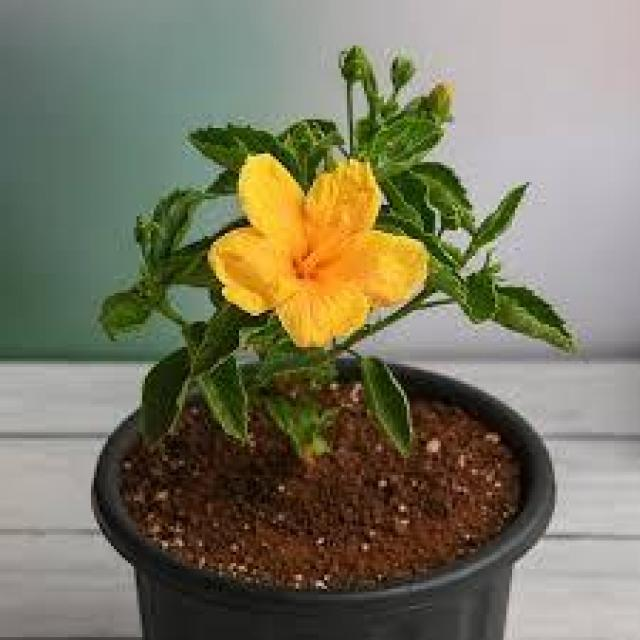organic waste: (212, 154, 428, 341)
